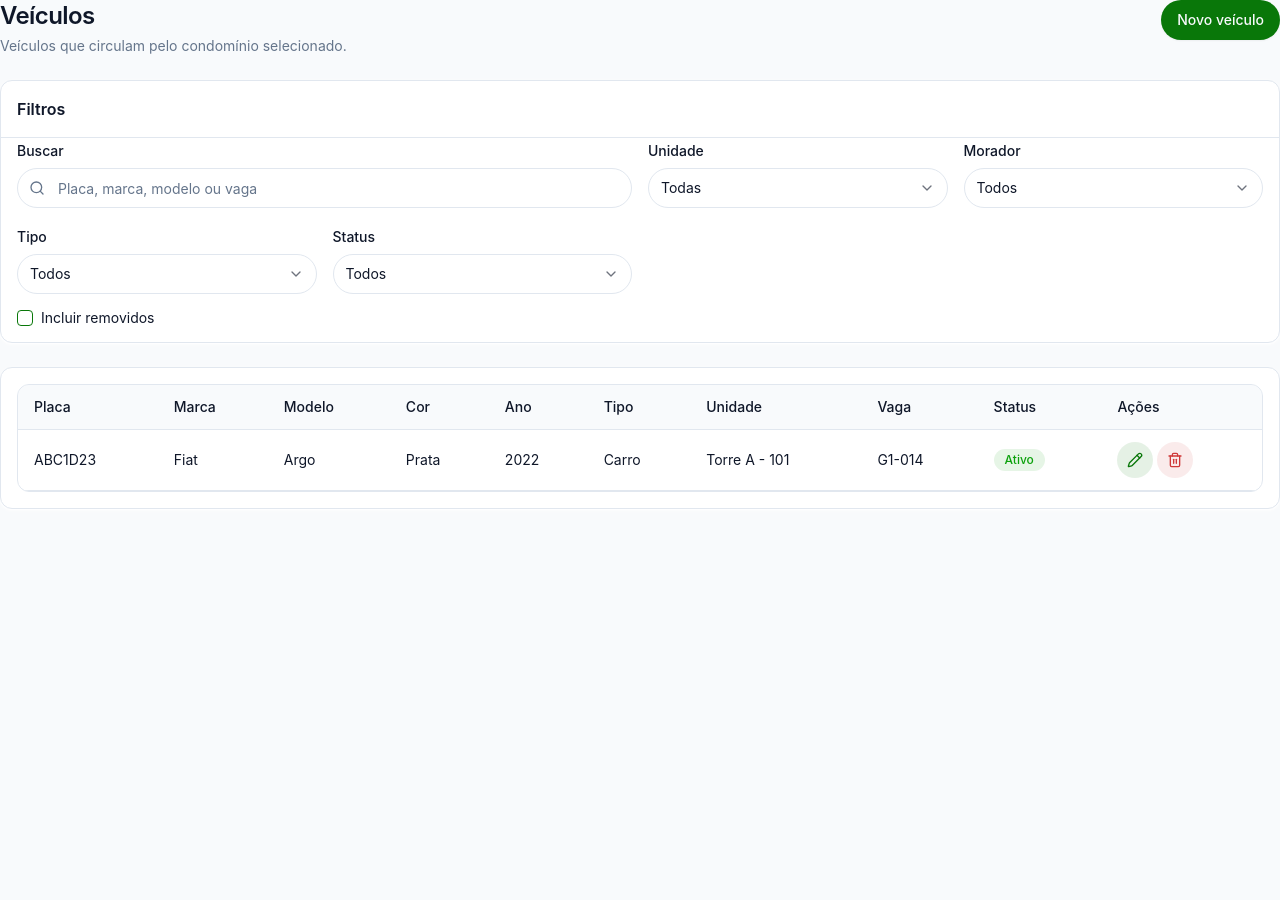
Exclusao e restauração de veículos › excluir pede confirmação antes de remover
Expected: the text "ABC1D23" is shown, [34,450,96,470]
Click the button named "Excluir ABC1D23": point(1175, 460) [1157,442,1193,478]
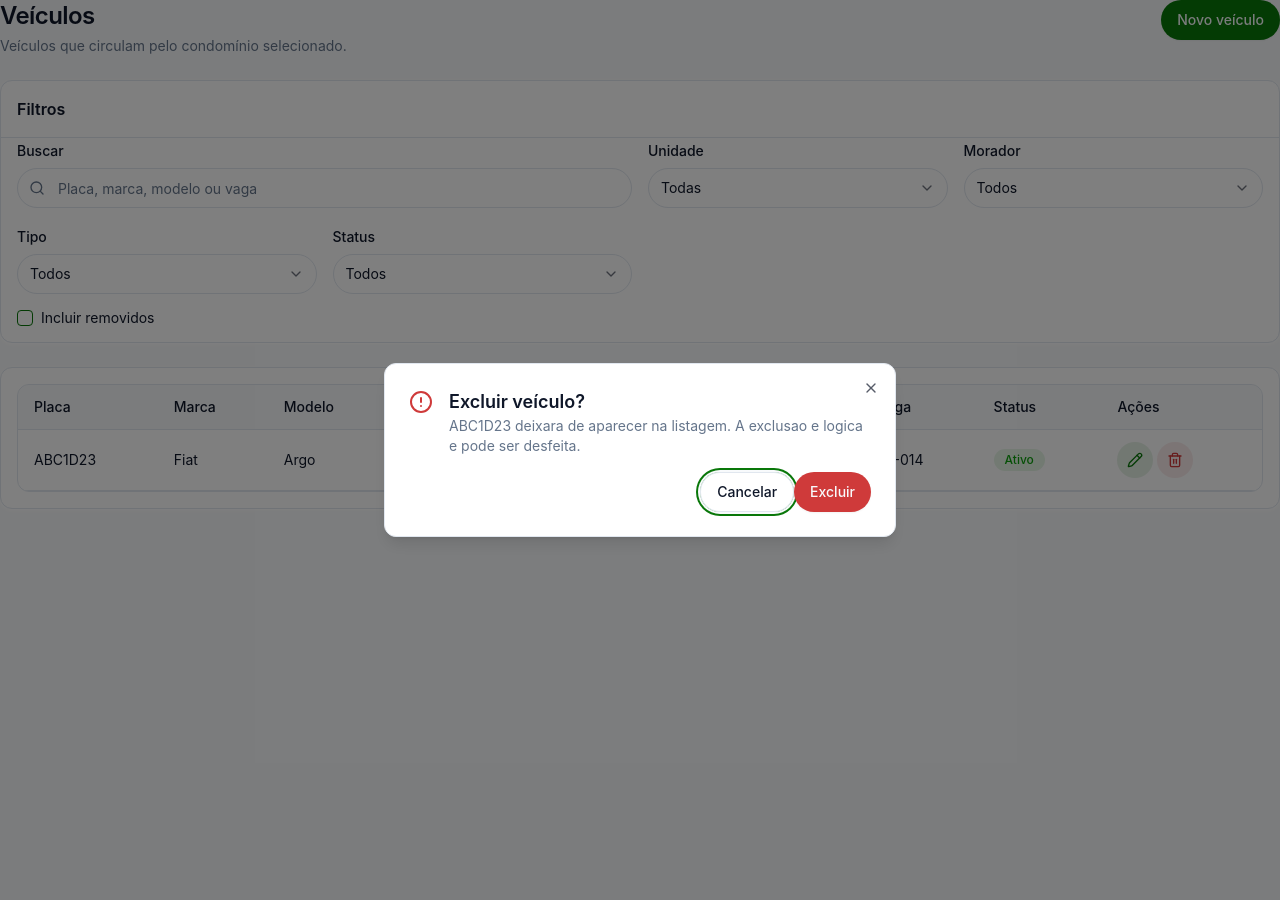
Expected: the heading "Excluir veículo?" is shown, [449,391,585,412]
Click the button "Excluir": point(833, 492) [794,472,871,512]
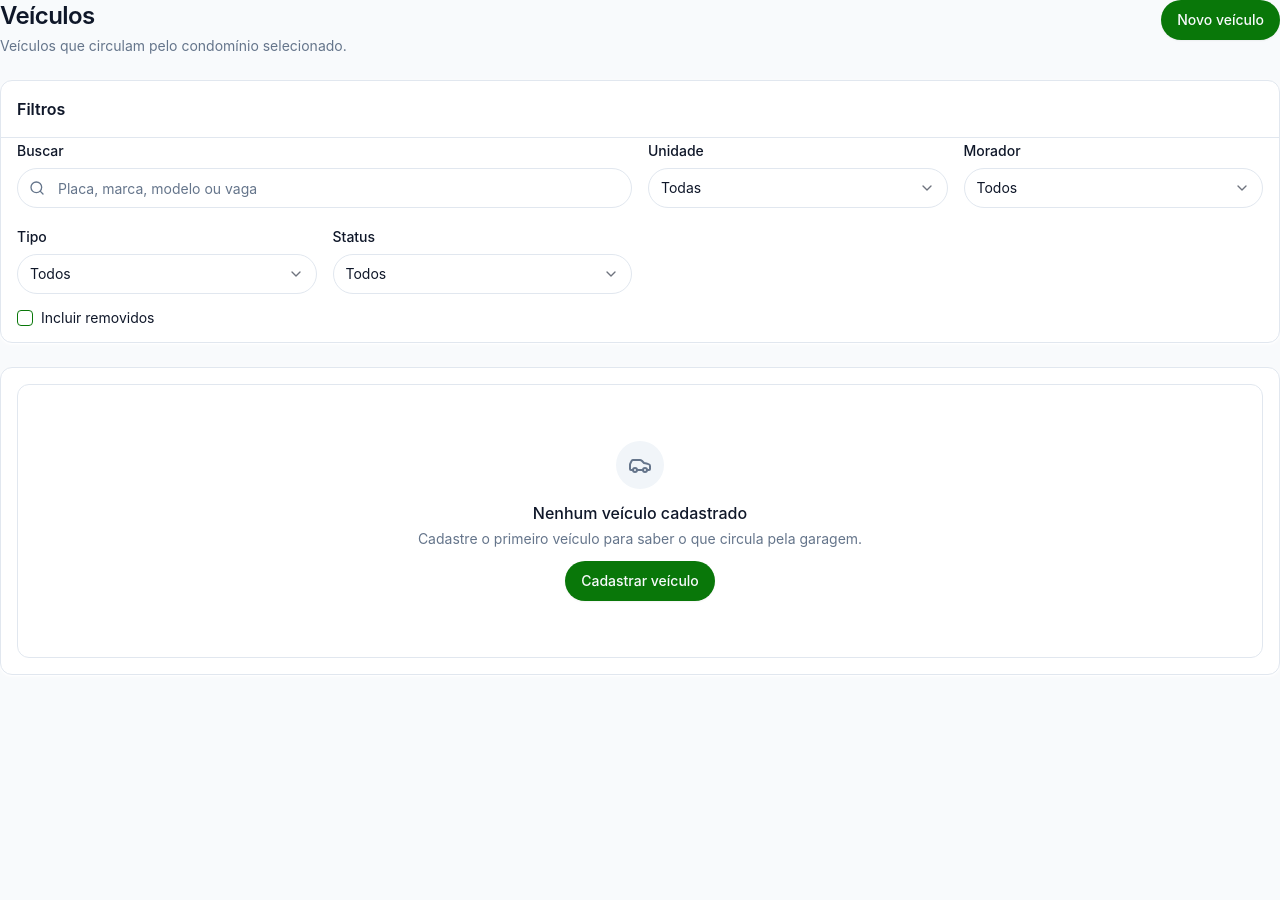
Expected: the text "ABC1D23" is gone
